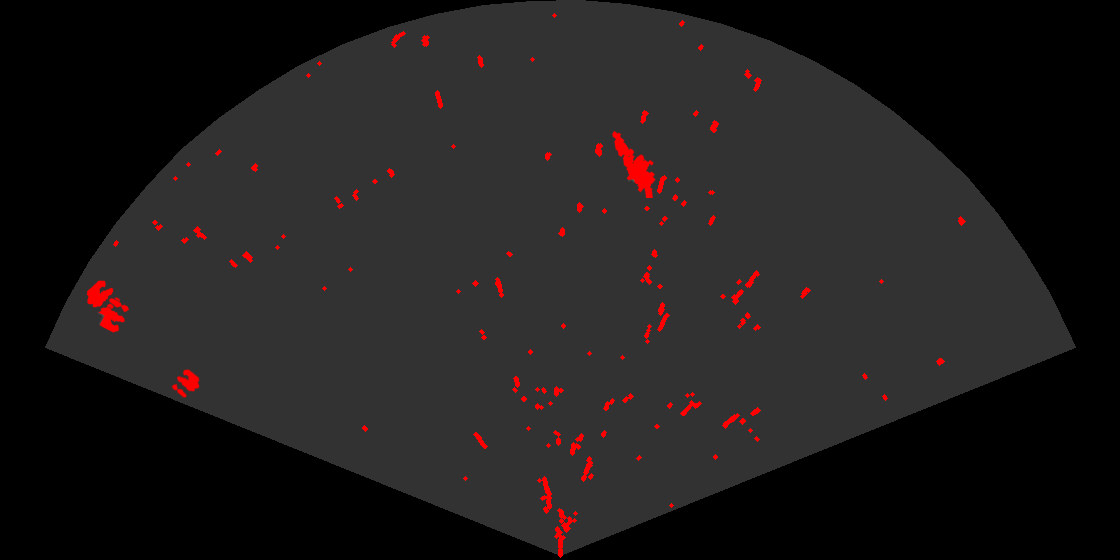ball: (85, 279, 122, 316), (97, 296, 131, 334), (170, 368, 201, 400)
frogman: (611, 129, 657, 198)
